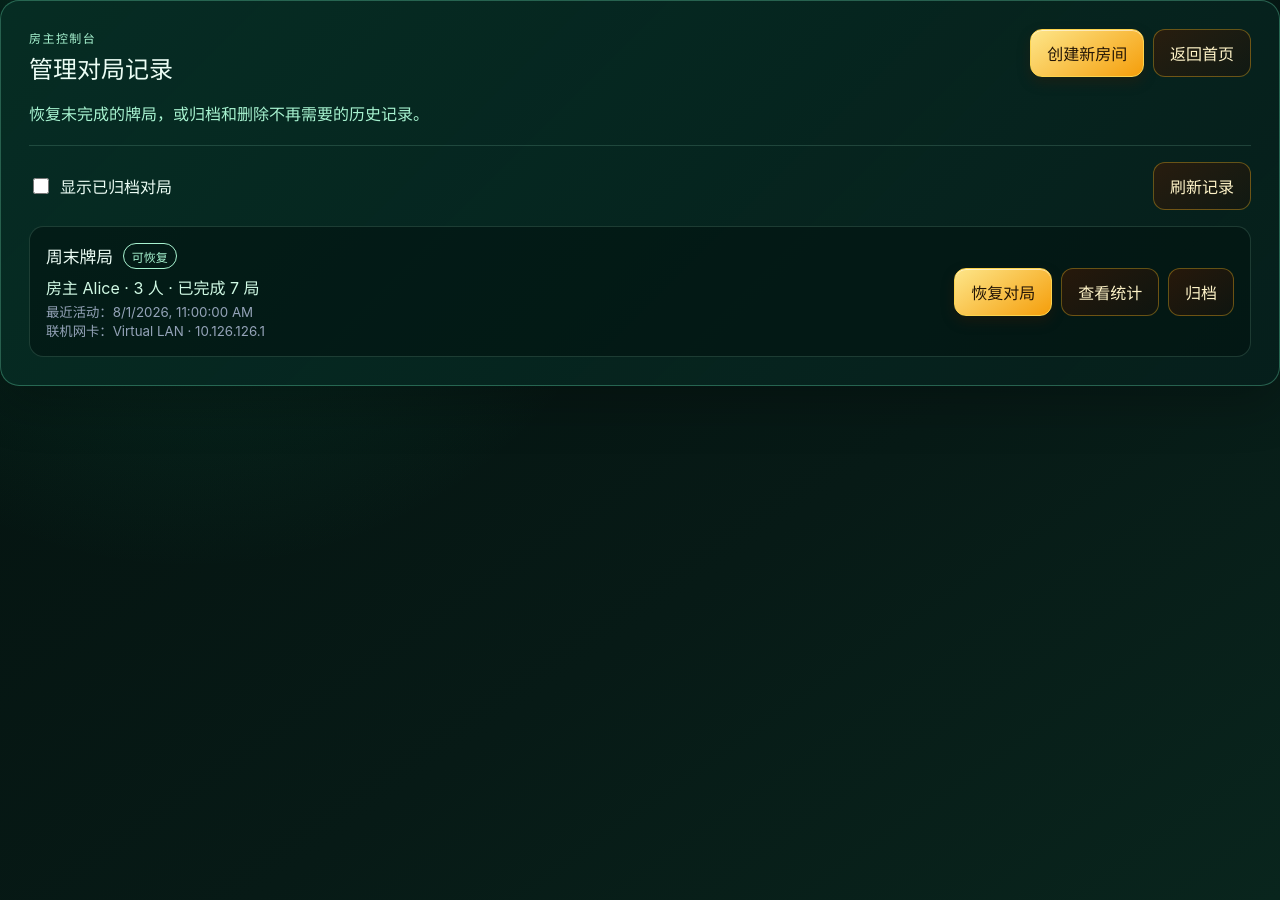
it: RoomRecordManager › does not show a removed player in historical statistics
Click the button "查看统计". click: {"x": 1110, "y": 292}
box: x1=1061 y1=268 x2=1159 y2=316
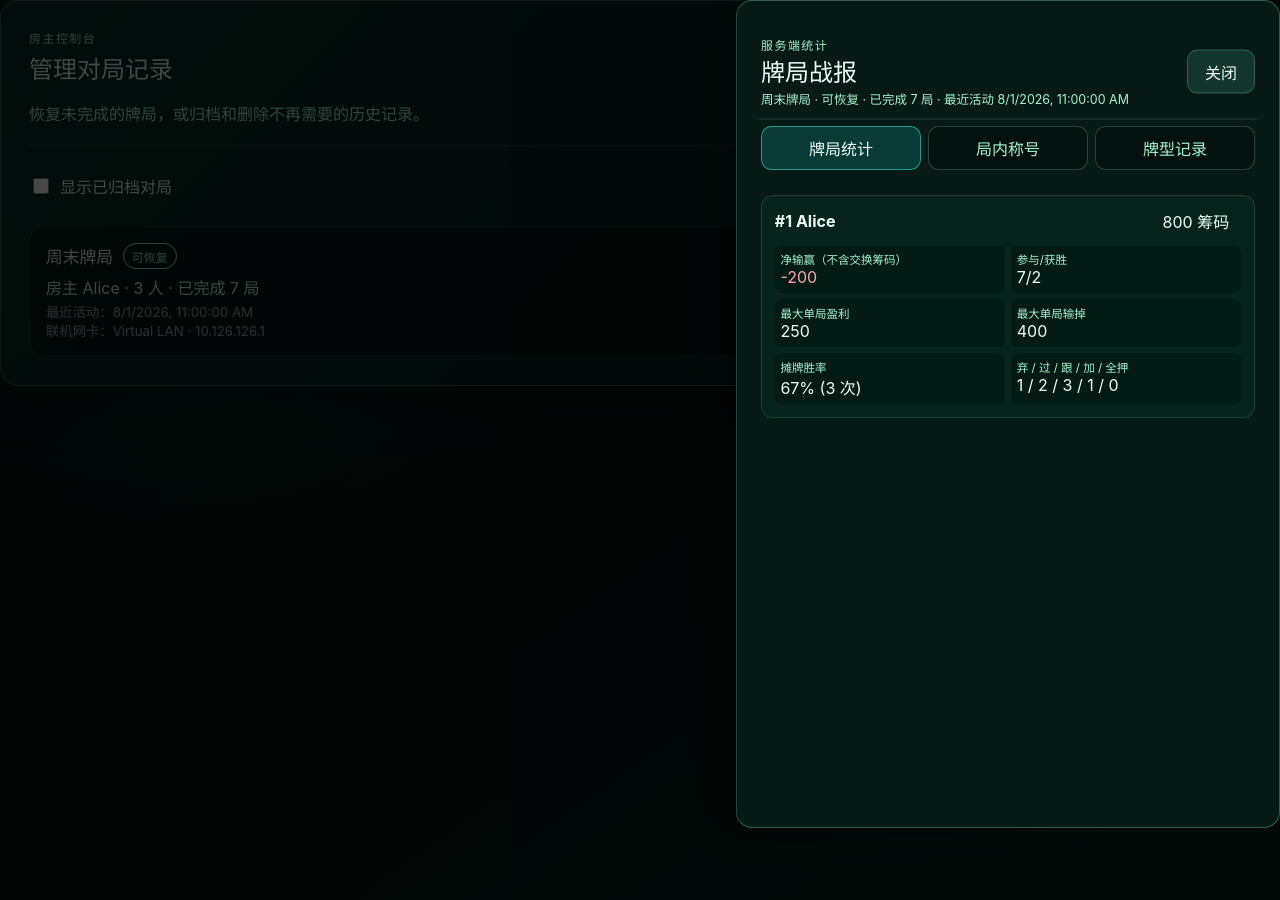
Now the text "#1 Alice" is shown, box x1=775 y1=211 x2=836 y2=231
